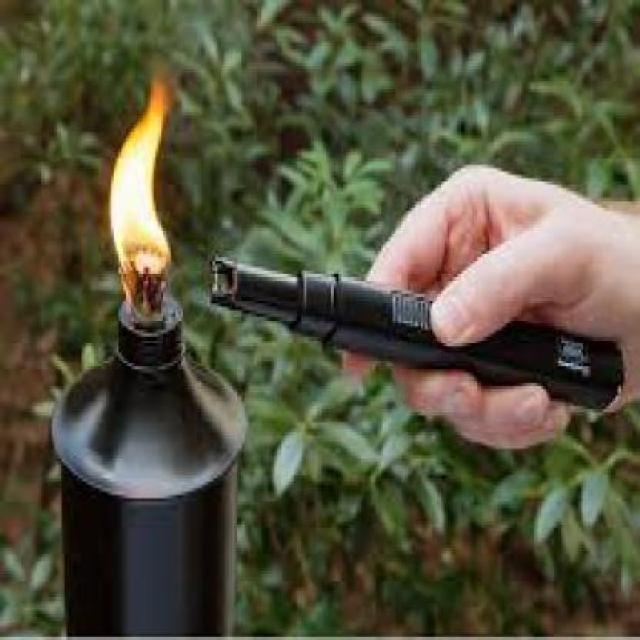Fire: (100, 54, 197, 275)
